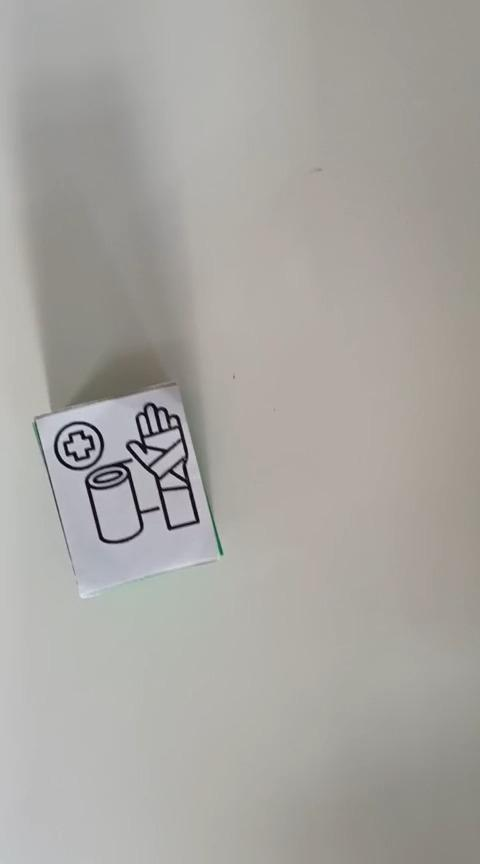Bandages: (32, 379, 223, 599)
